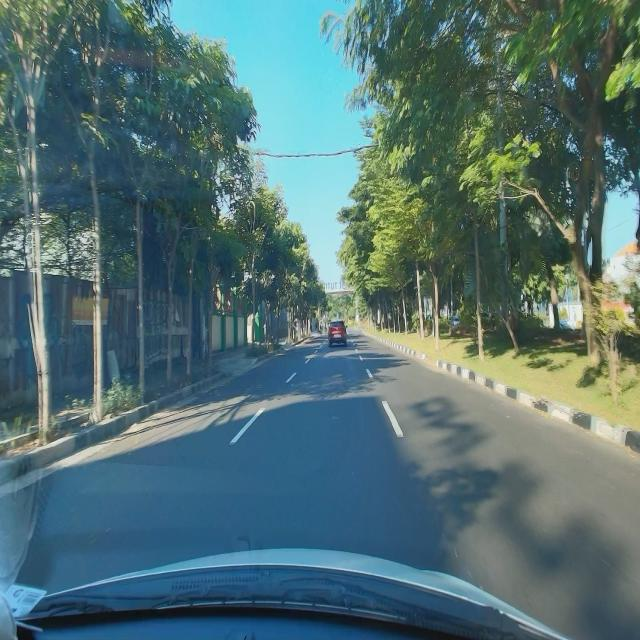car: (328, 319, 348, 348)
